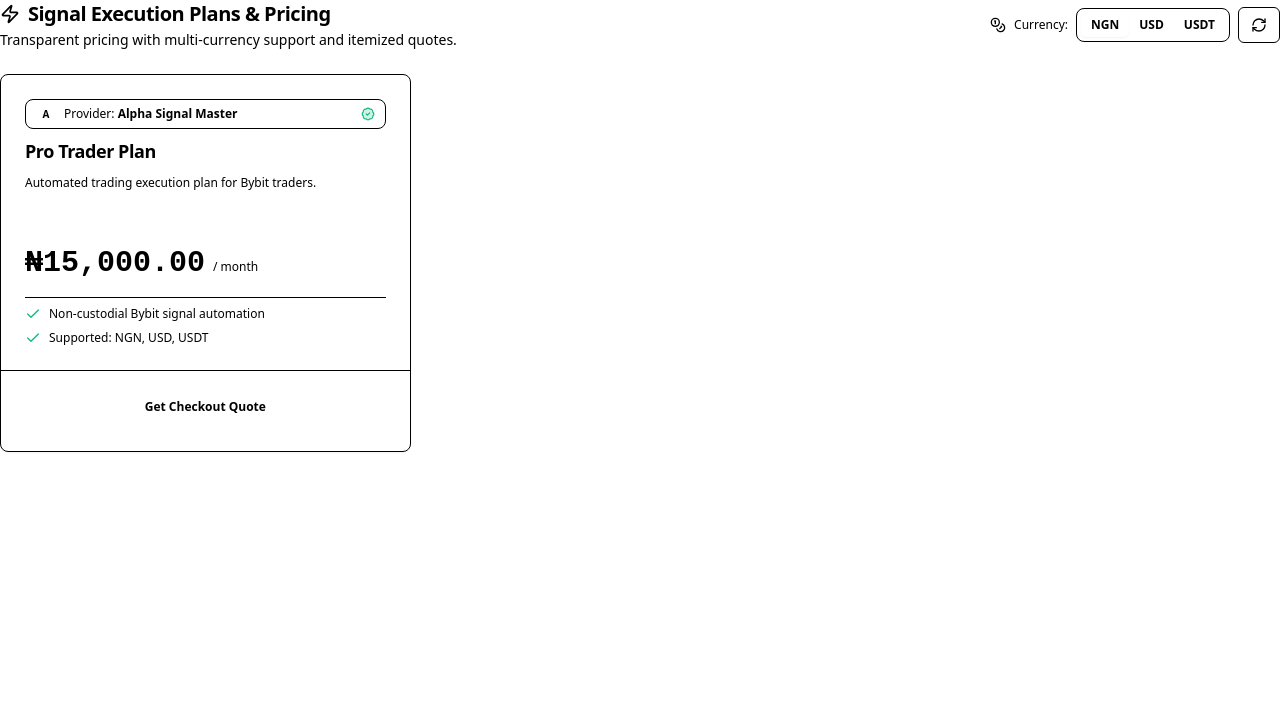
Test case: PricingGrid › opens CheckoutQuoteModal when clicking 'Get Checkout Quote'
This screenshot has width=1280, height=720.
Expected: the text "Pro Trader Plan" is shown, [25,139,156,163]
Click the button "Get Checkout Quote": (205, 407) [25,387,386,427]
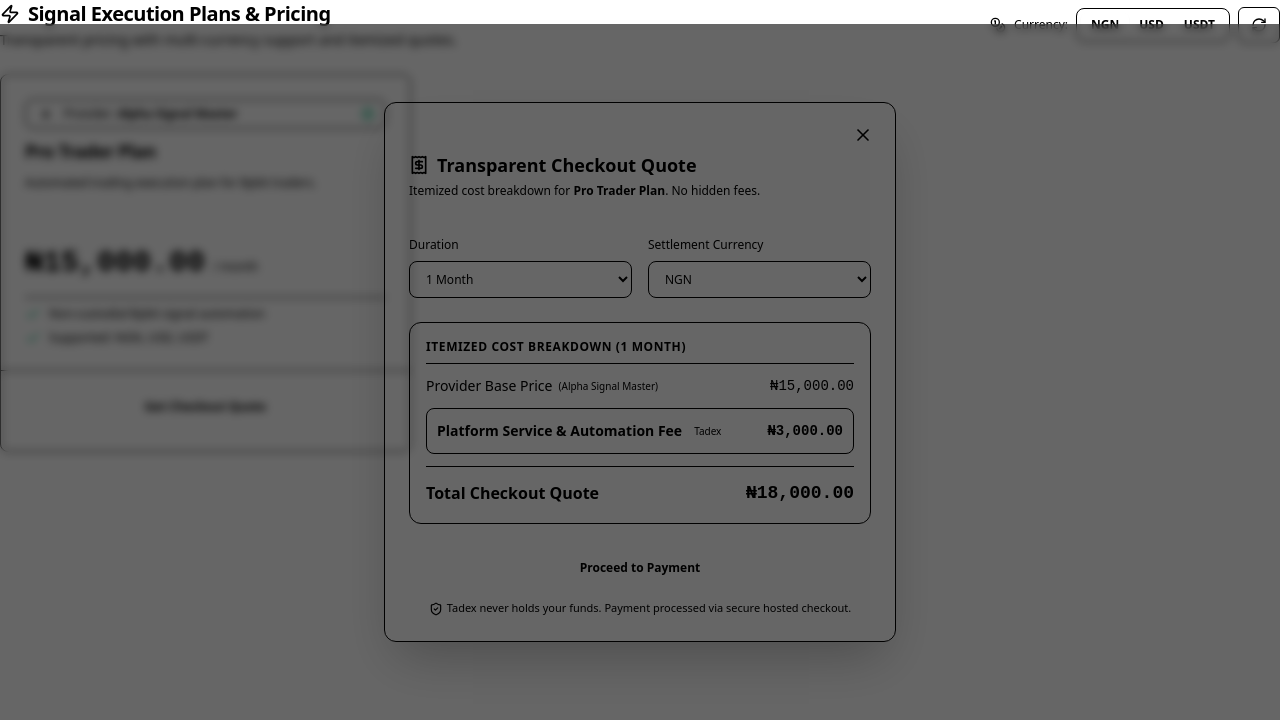
Now the heading "Transparent Checkout Quote" is shown, box [437,151,697,179]
